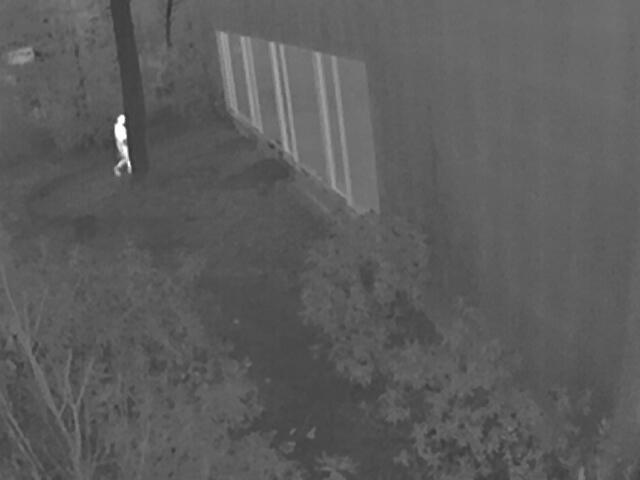person: (112, 112, 129, 174)
